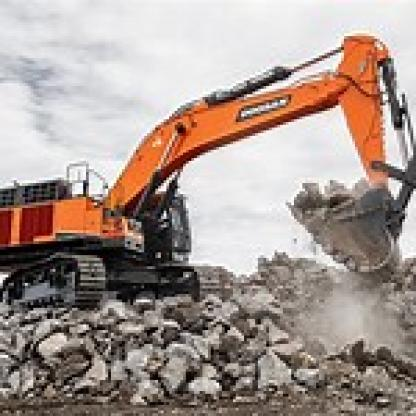excavator: (14, 30, 413, 364)
